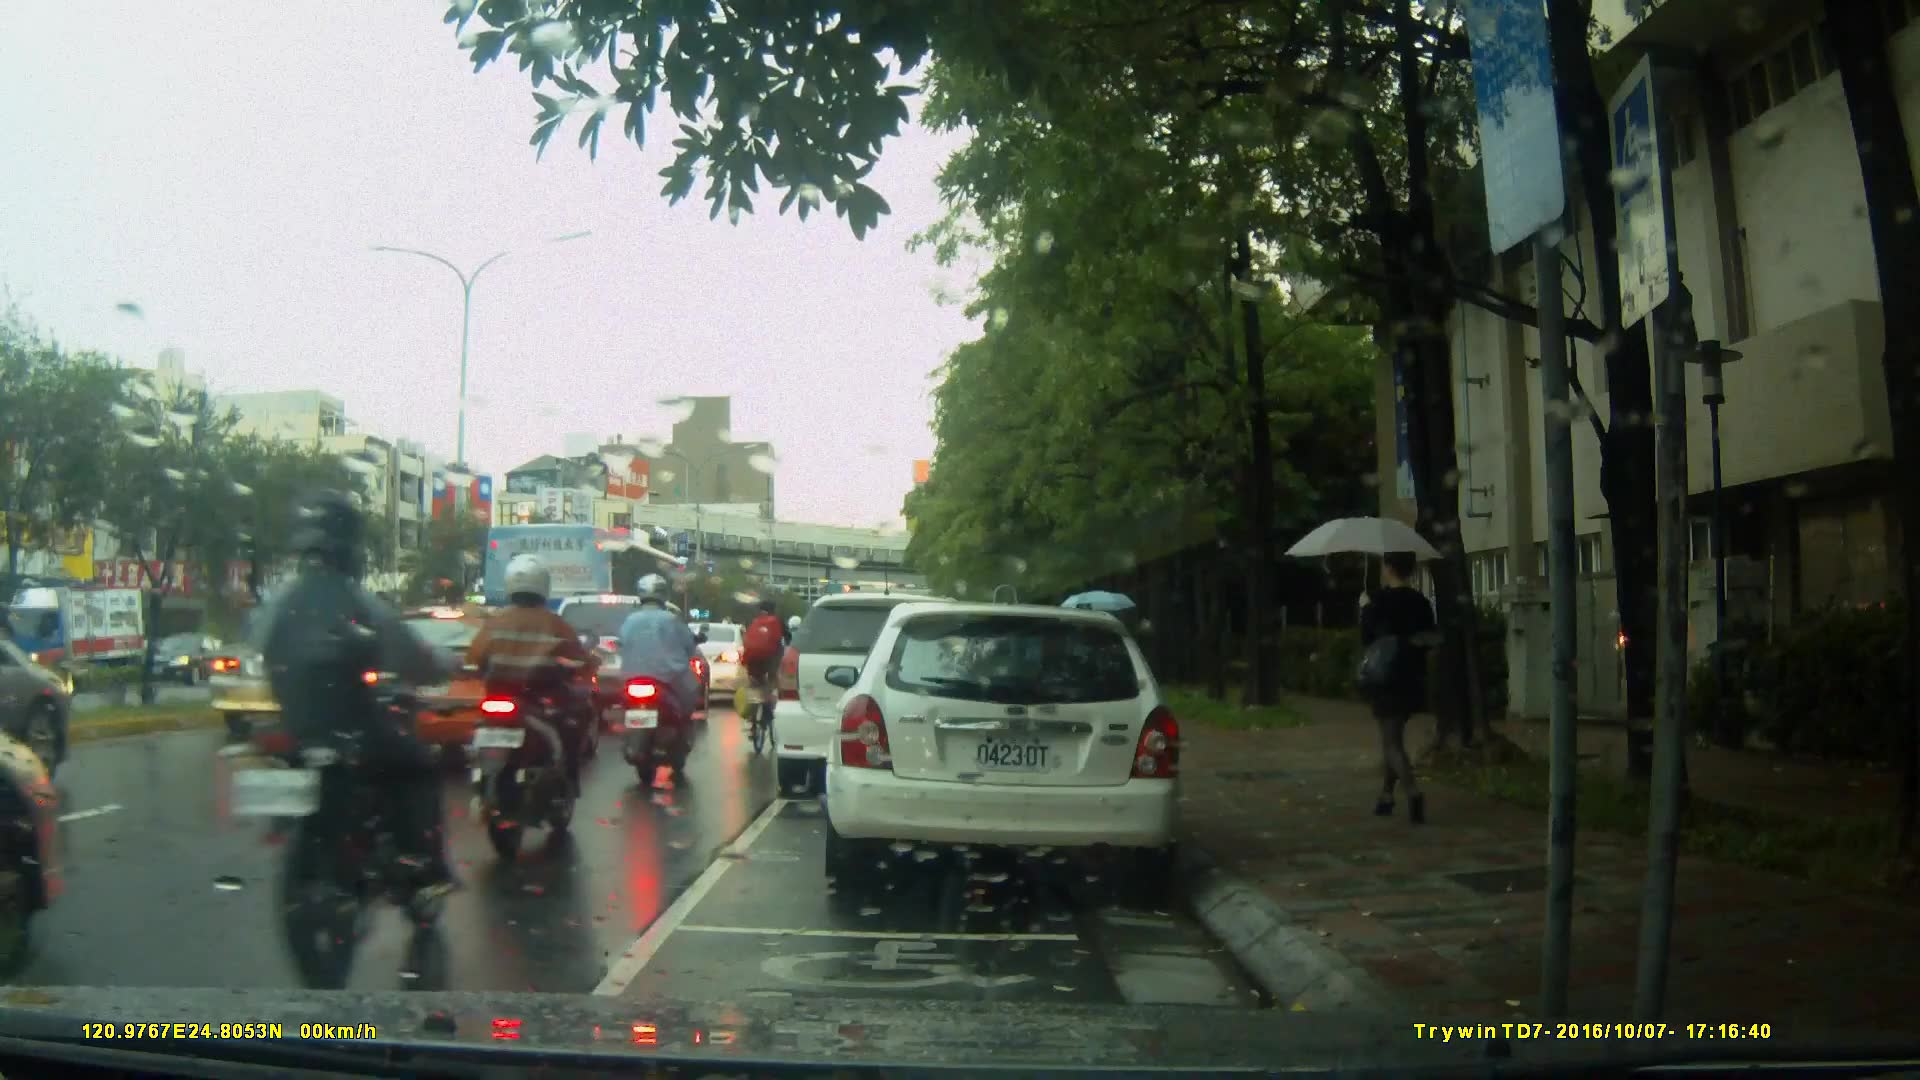pedestrian: (1323, 541, 1449, 825)
rider: (250, 487, 446, 970), (457, 552, 606, 842), (619, 575, 709, 785), (744, 598, 802, 754)
vehicle: (835, 594, 1194, 898), (776, 590, 1026, 784), (343, 603, 605, 777), (484, 521, 705, 669), (205, 607, 434, 741), (1, 586, 157, 697)
